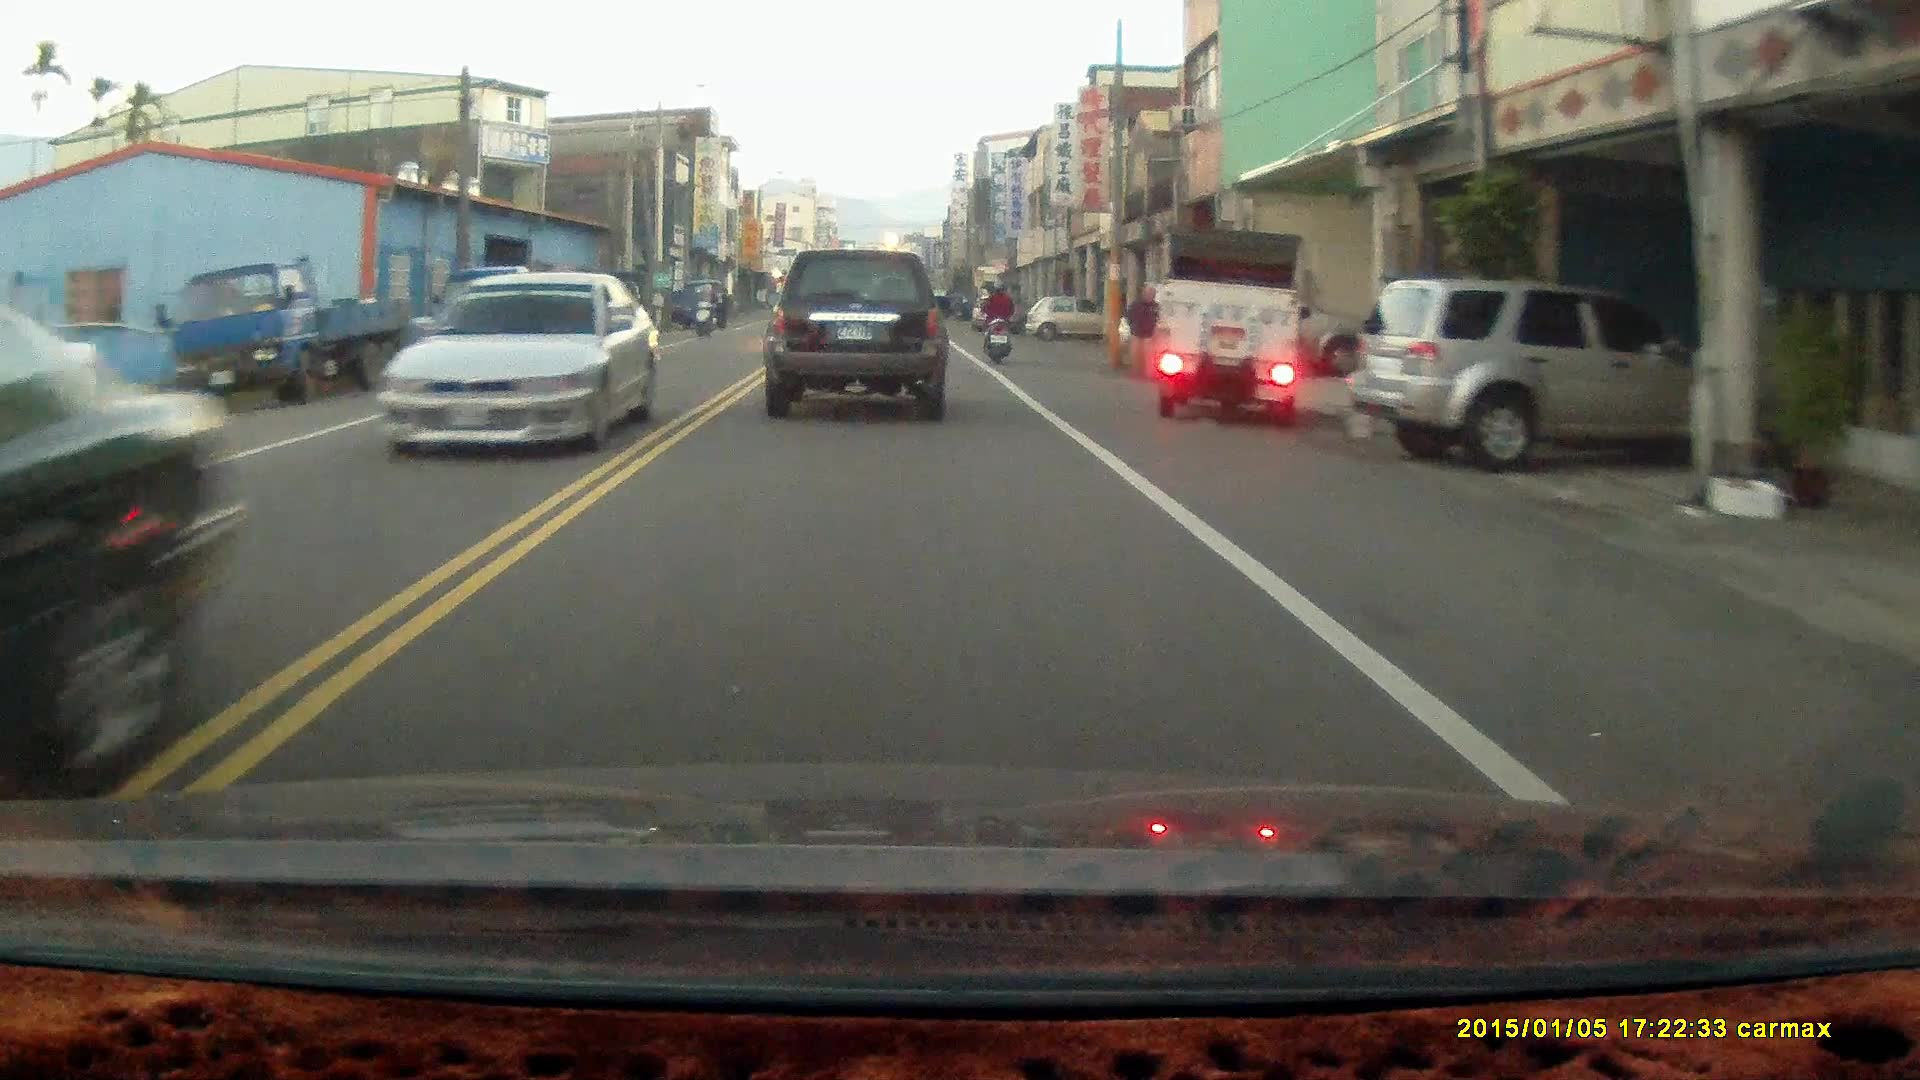pedestrian: (1126, 285, 1158, 381), (708, 280, 728, 331)
rider: (978, 281, 1014, 368), (692, 279, 722, 342)
vehicle: (1, 270, 245, 799), (1357, 279, 1716, 471), (371, 272, 656, 461), (168, 255, 397, 414), (766, 251, 951, 426), (1154, 229, 1309, 425), (1112, 277, 1363, 382), (1028, 297, 1104, 350)
